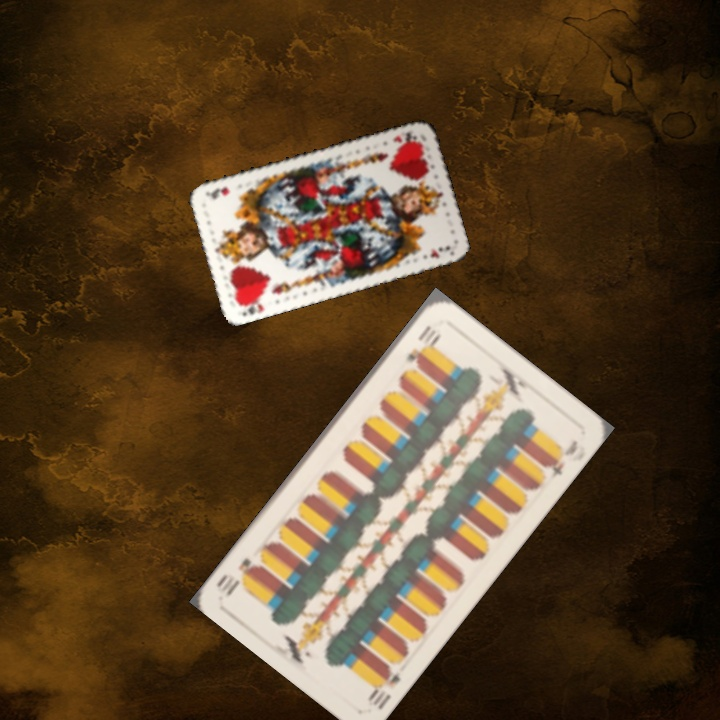E10: (363, 661, 403, 713), (401, 320, 441, 366)
HK: (389, 128, 422, 150), (234, 298, 267, 319)
